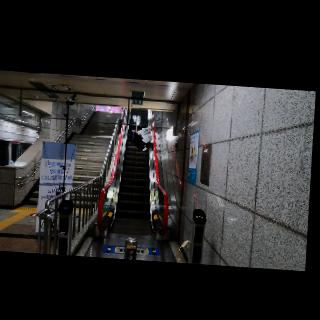anomaly: (134, 116, 155, 156)
